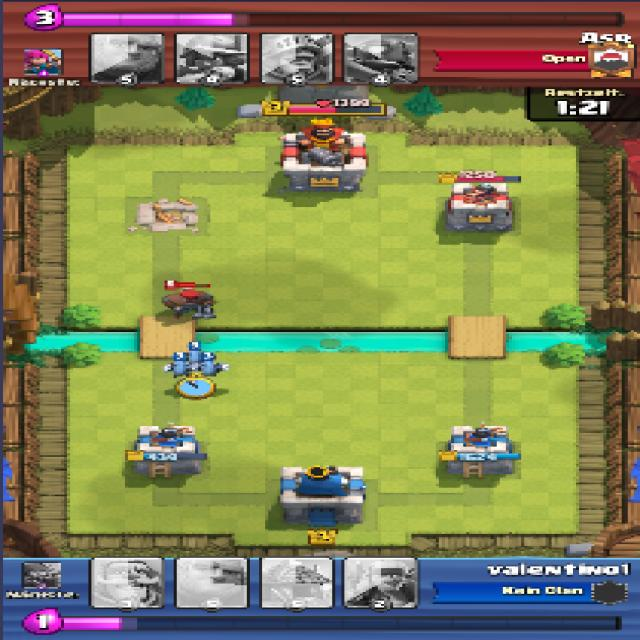Enemy-Hunter: (157, 289, 217, 317)
Enemy-Minion: (196, 361, 231, 376), (166, 360, 188, 377), (181, 349, 208, 362)
